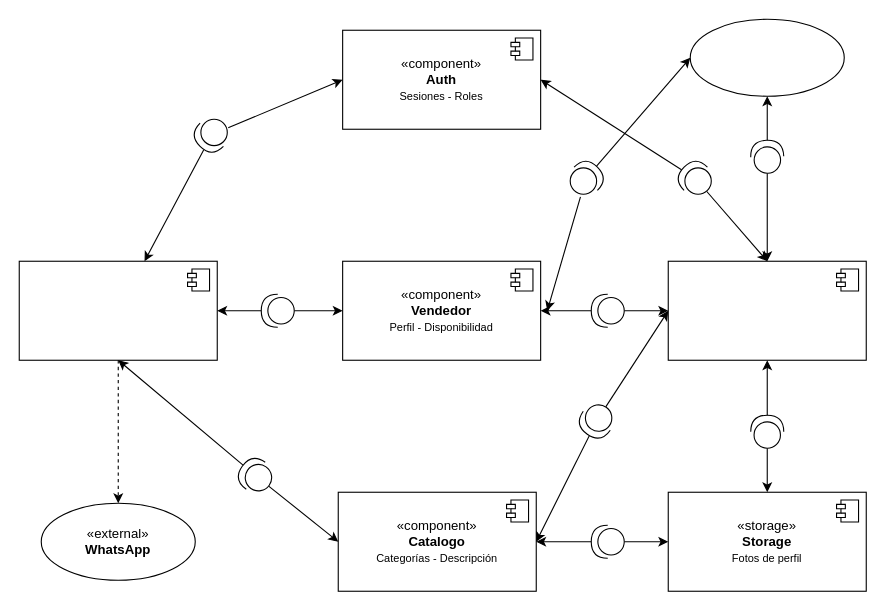
This 886x611 diagram has some shape labels left out. Each missing label, with the centre of its shape:
"«bus» Bus de disponibilidad" belongs at (x=766, y=57).
"«component» Aplicación móvil" belongs at (x=117, y=310).
"«DB» Base de datos" belongs at (x=766, y=310).
